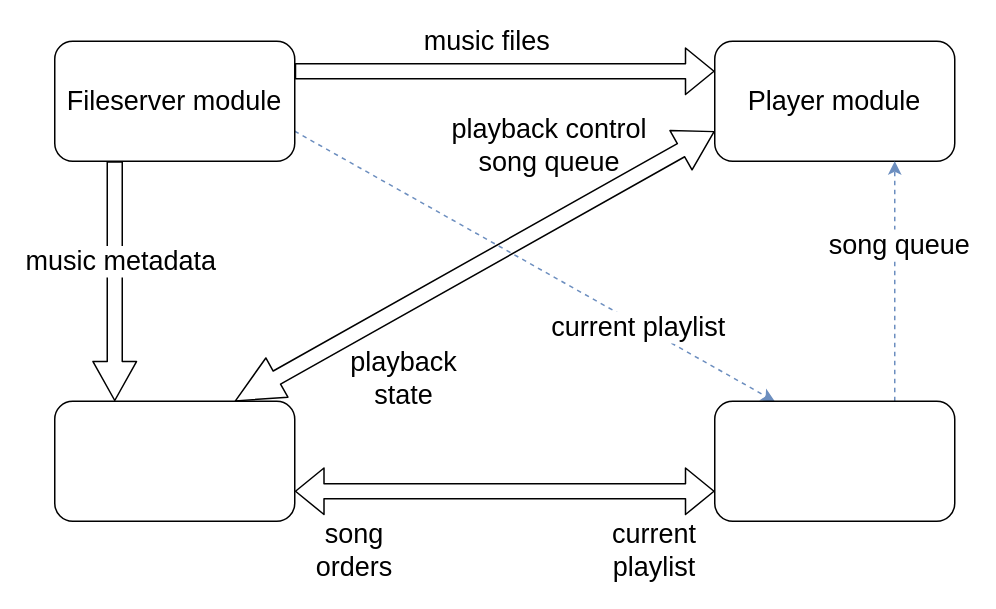
Some shapes in this 996 by 609 pixel diagram are drawn without their labels. Each missing label, with the centre of its shape:
"Database module" belongs at point (834, 460).
"Manager module" belongs at point (174, 460).
